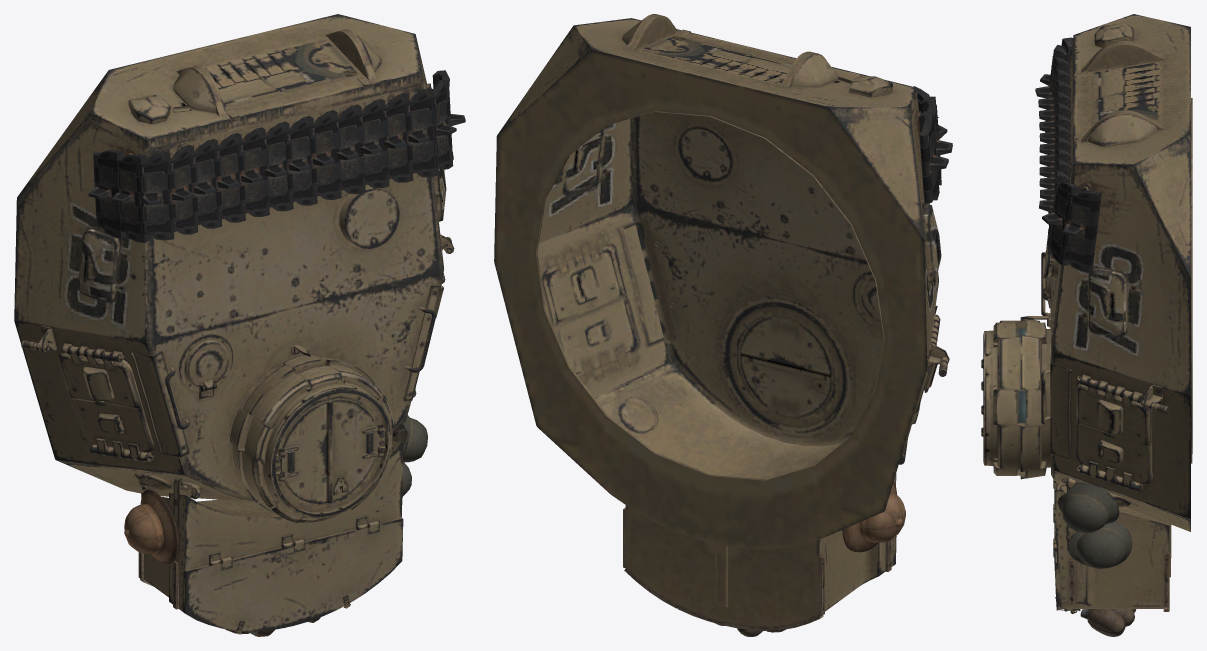
The model's file is Turret_01.glb.
The picture shows the model from 3 angles, left to right: view 1: azimuth 30°, elevation 25°; view 2: azimuth 150°, elevation 25°; view 3: azimuth 270°, elevation 25°; orthographic projection. The views are drawn at different scales.
Parts seen in each view (by area): view 1: set_0_group_1, set_0_group_0; view 2: set_0_group_1, set_0_group_0; view 3: set_0_group_1, set_0_group_0.
Part boxes in pixels (x1,y1,x2,y2): set_0_group_1: (14,14,454,636); set_0_group_0: (88,70,465,242); set_0_group_1: (494,14,949,636); set_0_group_0: (665,86,952,203); set_0_group_1: (981,14,1192,636); set_0_group_0: (1035,37,1101,272).
Size of the model in its own units: 2.14 by 2.73 by 0.9496.
2 materials, 2 textured.
